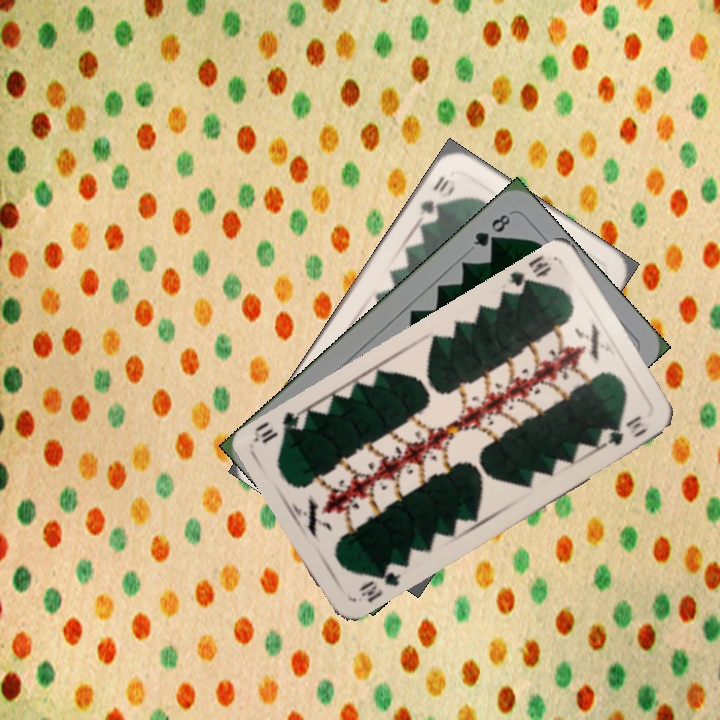G10: (504, 252, 555, 298), (353, 563, 404, 605), (415, 171, 456, 219)
G8: (469, 210, 514, 250)
